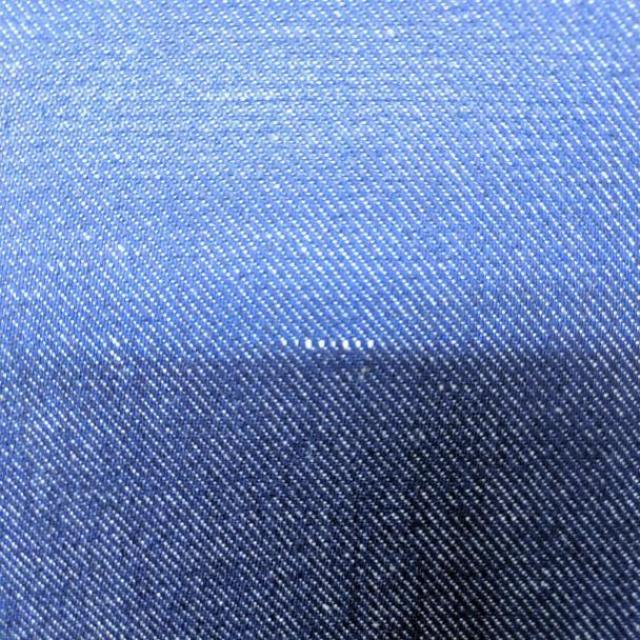Knot: (279, 338, 376, 352)
